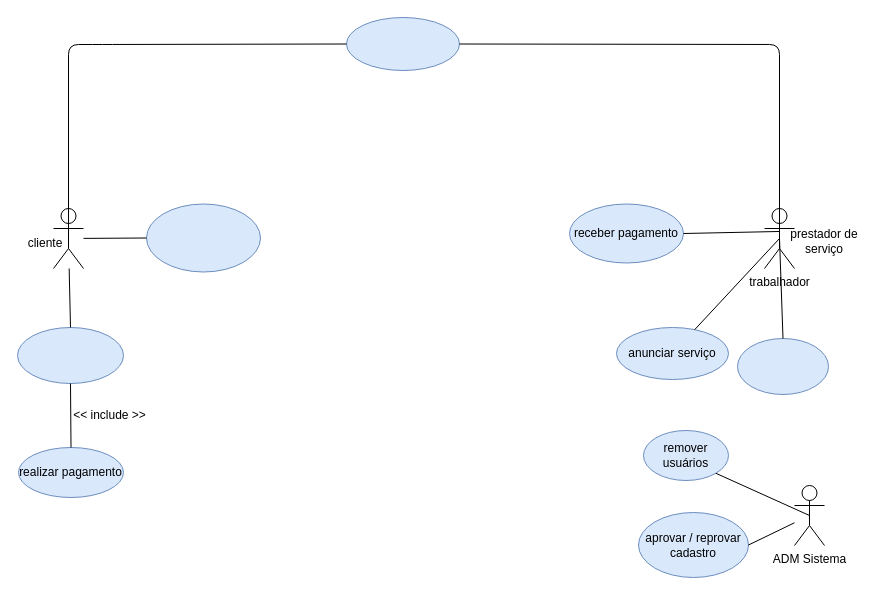
Image size: 881x595. Some labels were removed from this diagram. Each missing label, with the centre of its shape:
"avalia cliente" belongs at point (782, 366).
"avaliar serviço prestado" belongs at point (70, 355).
"realizar cadastro / autenticação" belongs at point (403, 43).
"visualizar trabalhos disponíveis" belongs at point (203, 237).
